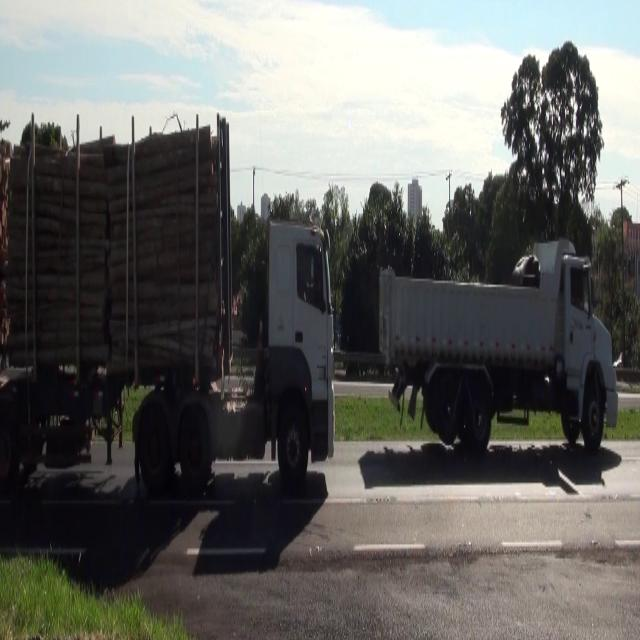-axle: (275, 401, 308, 488), (138, 410, 171, 496), (180, 406, 210, 494), (462, 372, 491, 463), (434, 361, 460, 441), (581, 385, 605, 450)
